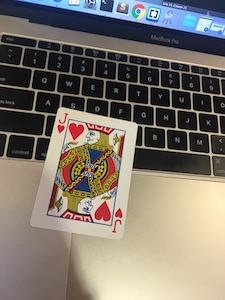JackOfHearts: (27, 105, 140, 243)
